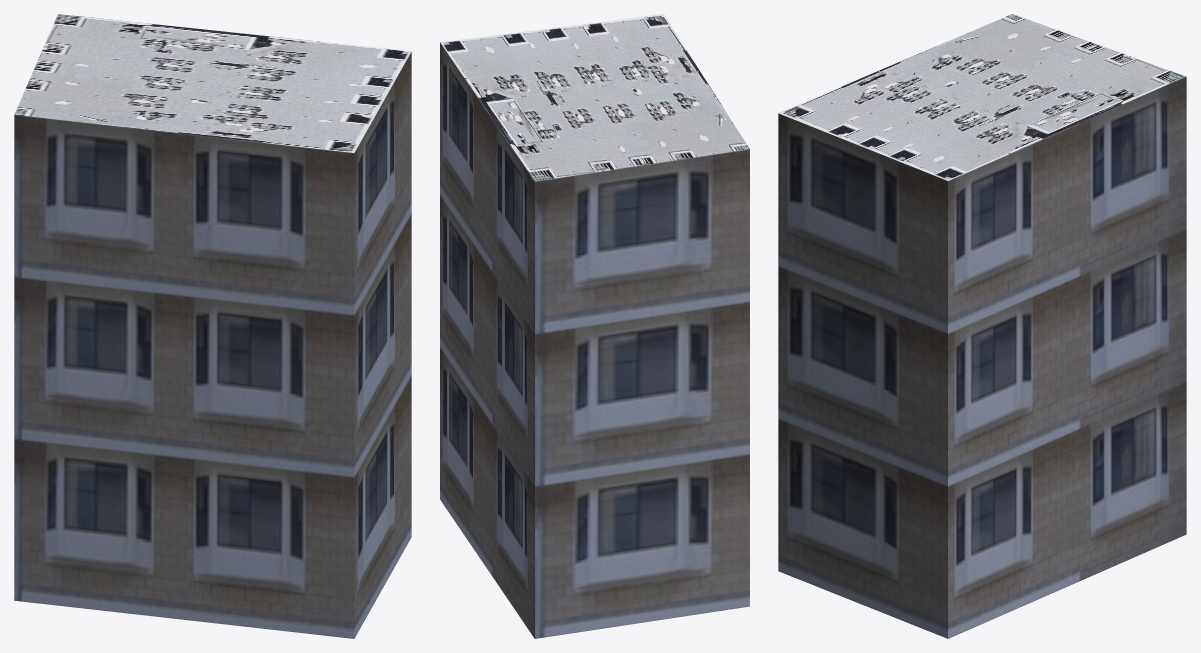
File: ResTex__4138.fbx
3 views of the same model, side by side, from view 1: azimuth 30°, elevation 25°; view 2: azimuth 150°, elevation 25°; view 3: azimuth 270°, elevation 25° (orthographic). The views are drawn at different scales.
Parts seen in each view (by area): view 1: CityEngineMaterial_3_m, CityEngineMaterial_8_m; view 2: CityEngineMaterial_3_m, CityEngineMaterial_8_m; view 3: CityEngineMaterial_3_m, CityEngineMaterial_8_m.
Part boxes in pixels (x1,y1,x2,y2): CityEngineMaterial_3_m: [14, 52, 411, 638]; CityEngineMaterial_8_m: [14, 14, 411, 152]; CityEngineMaterial_3_m: [440, 42, 749, 638]; CityEngineMaterial_8_m: [440, 14, 749, 181]; CityEngineMaterial_3_m: [778, 76, 1186, 638]; CityEngineMaterial_8_m: [778, 14, 1186, 180].
Size of the model in its own units: 7.04 by 9 by 7.27.
Materials: 2 (2 with a texture image).
